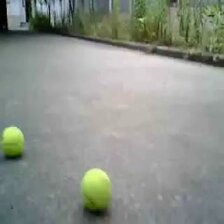tennis: (81, 169, 110, 210), (1, 125, 24, 156)
